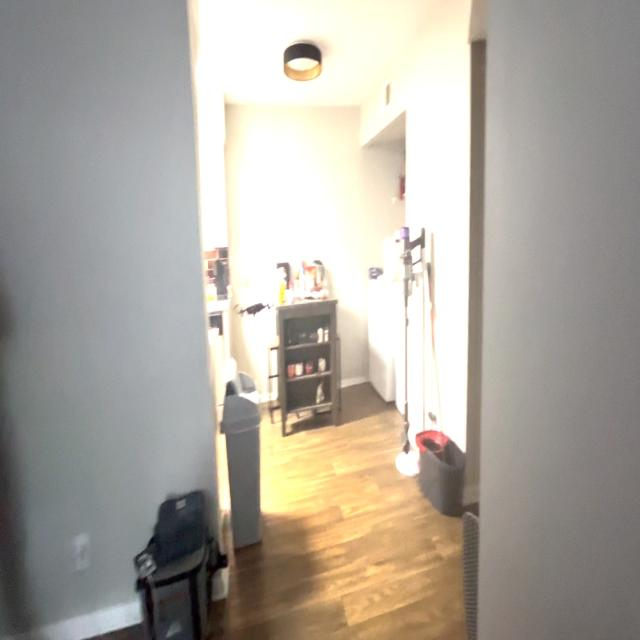drone: (223, 286, 289, 348)
